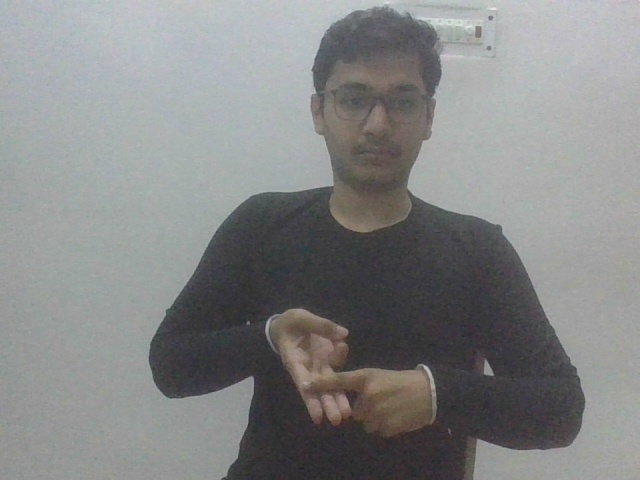E: (264, 301, 444, 440)
